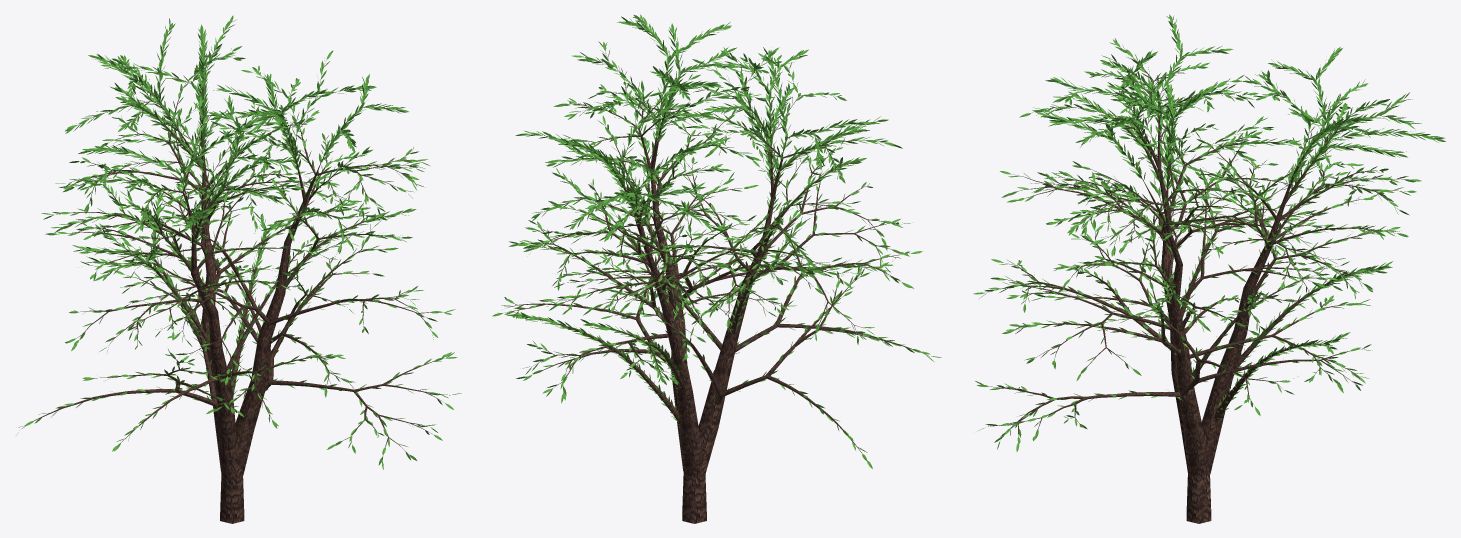
File: tree .fbx
The picture shows the model from 3 angles, left to right: view 1: azimuth 30°, elevation 25°; view 2: azimuth 150°, elevation 25°; view 3: azimuth 270°, elevation 25°; orthographic projection. The views are drawn at different scales.
Visible parts, largest first — view 1: leaves, tree; view 2: leaves, tree; view 3: leaves, tree.
Boxes of the visible parts, box(x1,y1,x2,y2) form: leaves: box(16, 15, 461, 469); tree: box(22, 24, 449, 523); leaves: box(492, 14, 941, 468); tree: box(505, 23, 929, 523); leaves: box(973, 14, 1445, 451); tree: box(987, 24, 1420, 523).
Size of the model in its own units: 727 by 847 by 796.
Materials: 2 (2 with a texture image).
